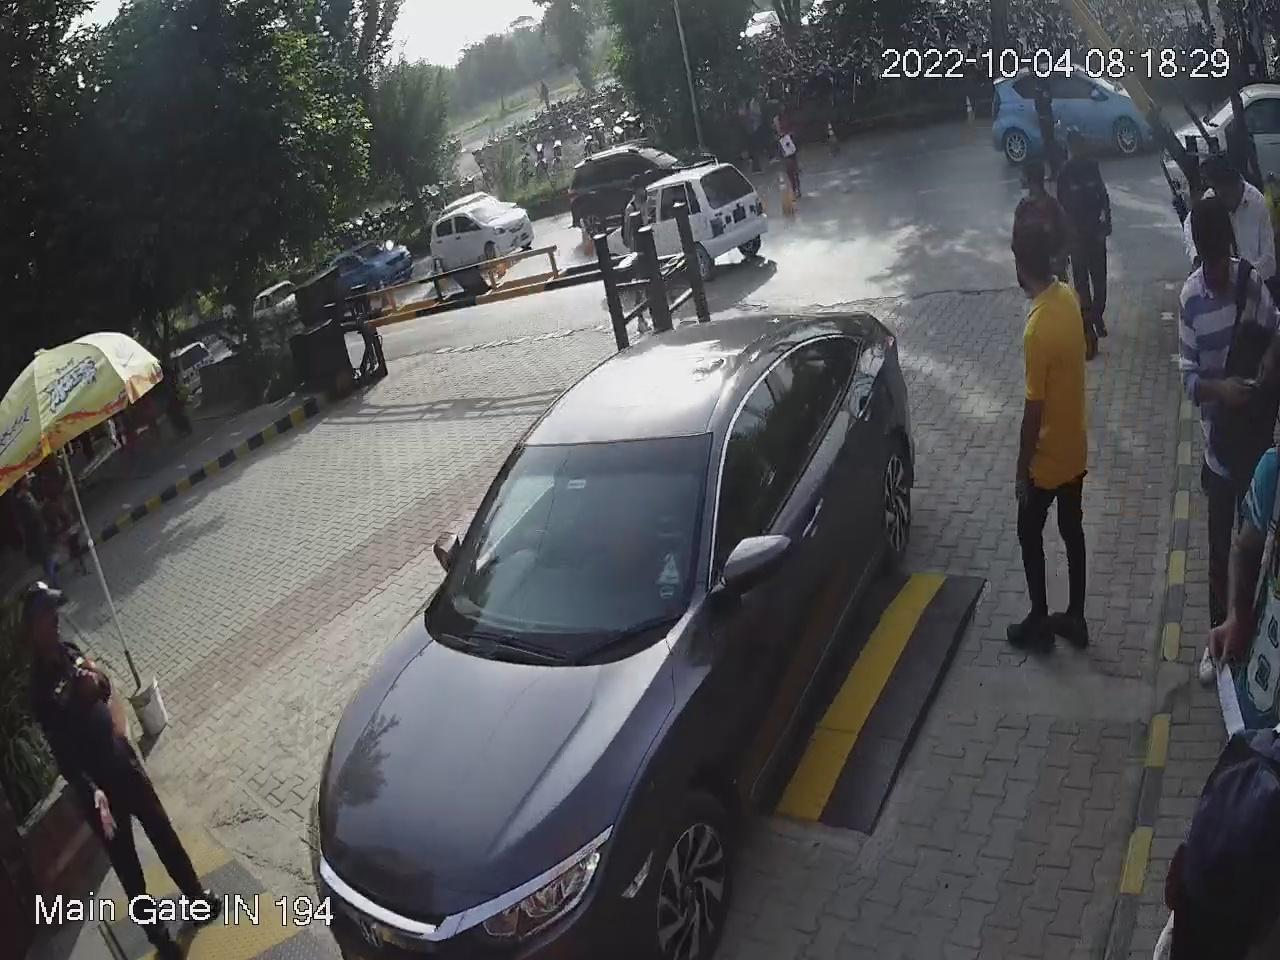windshield: (438, 433, 723, 630)
